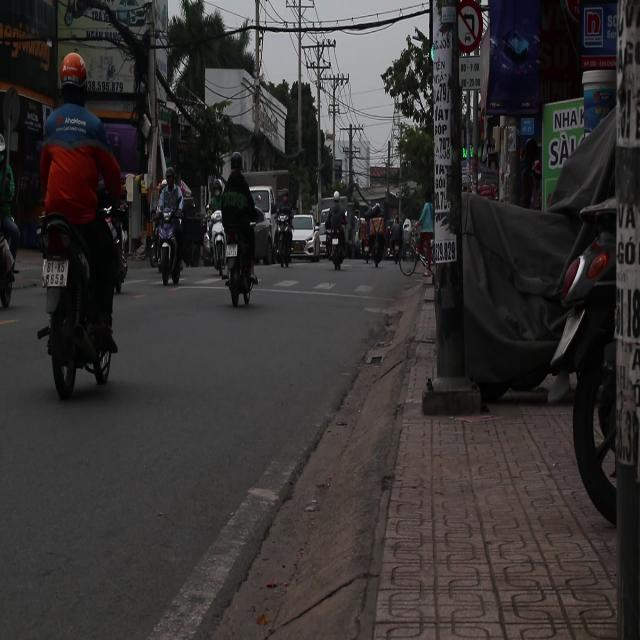car: (291, 213, 321, 260)
motorbike: (37, 207, 121, 396), (215, 210, 260, 308), (148, 210, 186, 287), (104, 203, 131, 292), (1, 218, 19, 312), (270, 206, 292, 265), (207, 212, 228, 272)
truck: (243, 171, 290, 221)
